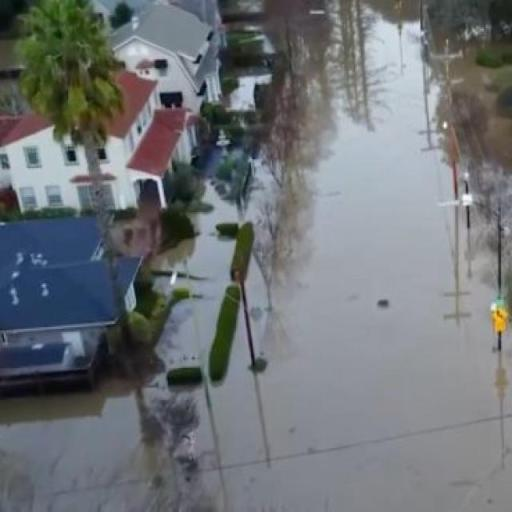flood: (0, 0, 512, 512), (482, 94, 512, 172), (0, 39, 22, 68)
house: (2, 202, 140, 402), (1, 113, 134, 211), (112, 4, 218, 98)
